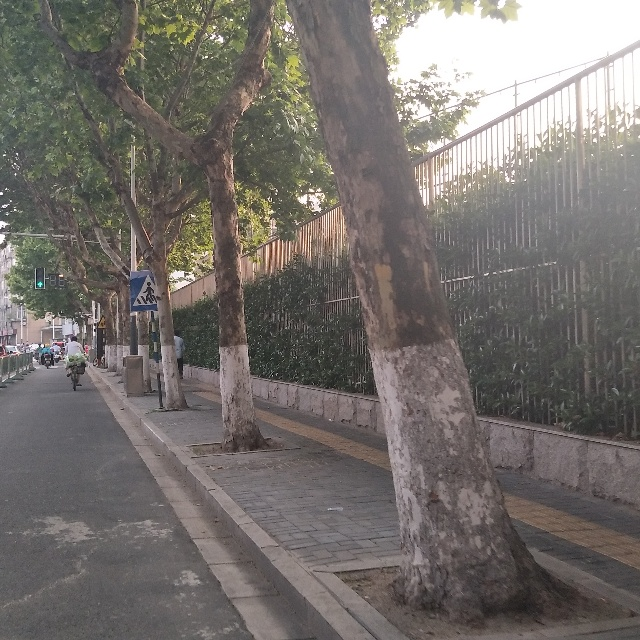crosswalk: (135, 271, 159, 307)
